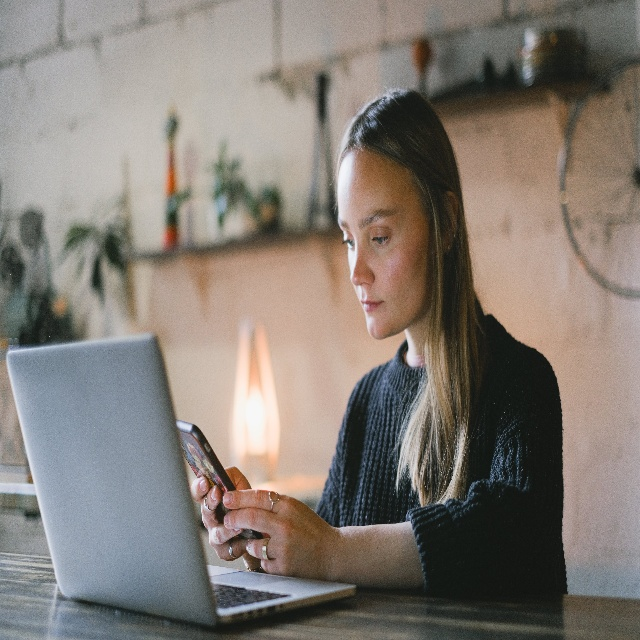Sin_guantes: (223, 485, 336, 580), (190, 474, 259, 565)
